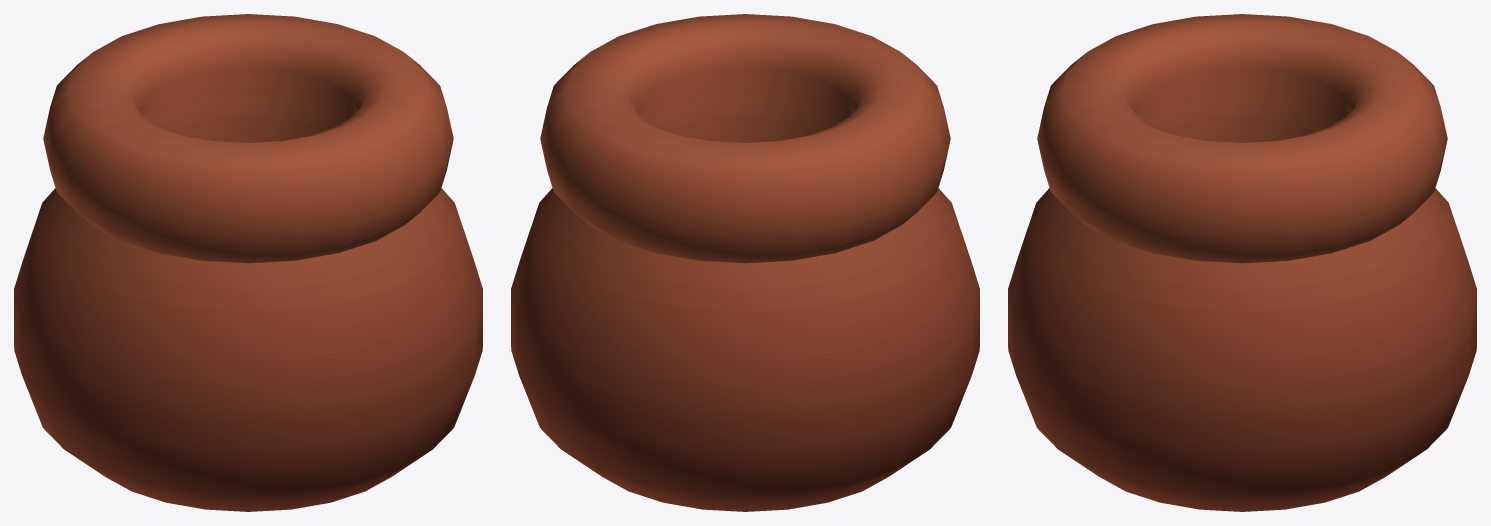
Rendered from Bowl_01.glb.
The picture shows the model from 3 angles, left to right: view 1: azimuth 30°, elevation 25°; view 2: azimuth 150°, elevation 25°; view 3: azimuth 270°, elevation 25°; orthographic projection.
Visible parts, largest first — view 1: Bowl_01; view 2: Bowl_01; view 3: Bowl_01.
Boxes of the visible parts, x1,y1,x2,y2 form: Bowl_01: [14, 14, 482, 511]; Bowl_01: [511, 14, 979, 511]; Bowl_01: [1008, 14, 1476, 511].
Size of the model in its own units: 0.1145 by 0.0987 by 0.1145.
Materials: 1 (1 with a texture image).
